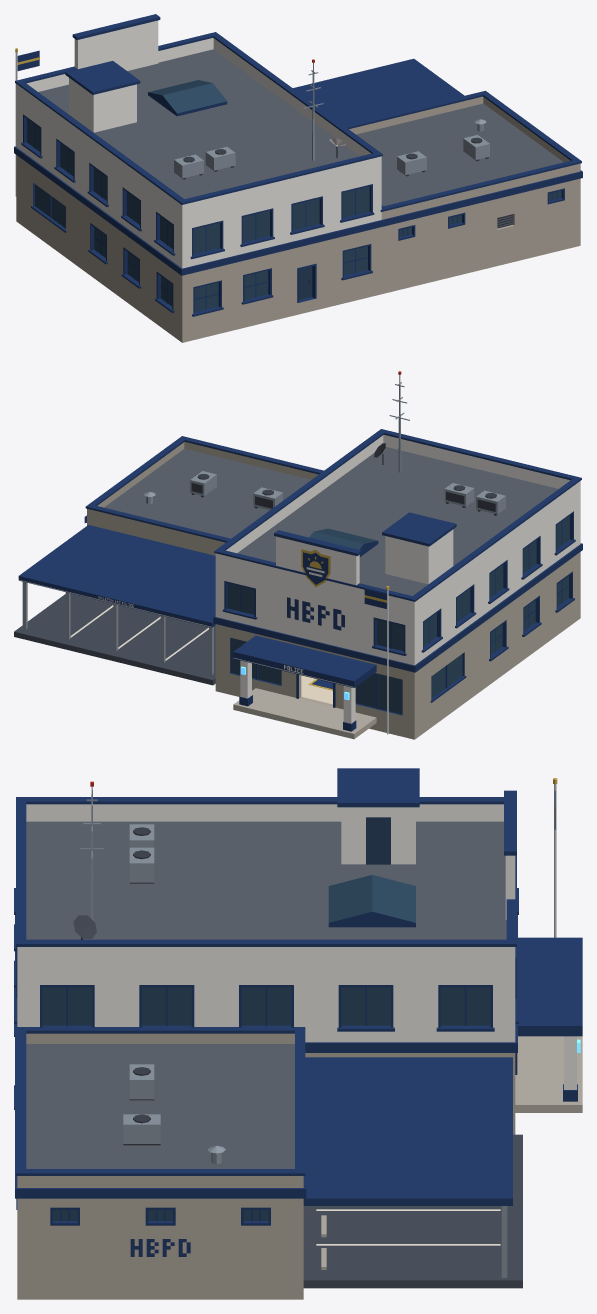
Rendered from police_station.glb.
The picture shows the model from 3 angles, top to bottom: view 1: azimuth 30°, elevation 25°; view 2: azimuth 150°, elevation 25°; view 3: azimuth 270°, elevation 25°; orthographic projection. The views are drawn at different scales.
Visible parts, largest first — view 1: Building, Building_Glass, Building_Detail; view 2: Building, Building_Glass, Building_Detail; view 3: Building, Building_Glass, Building_Detail.
Part boxes in pixels (x1=…): Building: x1=14, y1=14, x2=582, y2=342; Building_Glass: x1=27, y1=80, x2=561, y2=311; Building_Detail: x1=15, y1=48, x2=489, y2=283; Building: x1=14, y1=429, x2=582, y2=739; Building_Glass: x1=227, y1=516, x2=569, y2=714; Building_Detail: x1=19, y1=371, x2=505, y2=734; Building: x1=14, y1=768, x2=582, y2=1299; Building_Glass: x1=42, y1=875, x2=490, y2=1220; Building_Detail: x1=73, y1=778, x2=557, y2=1256.
Bounding box in the file's own units: 27.94 × 15.06 × 22.85.
